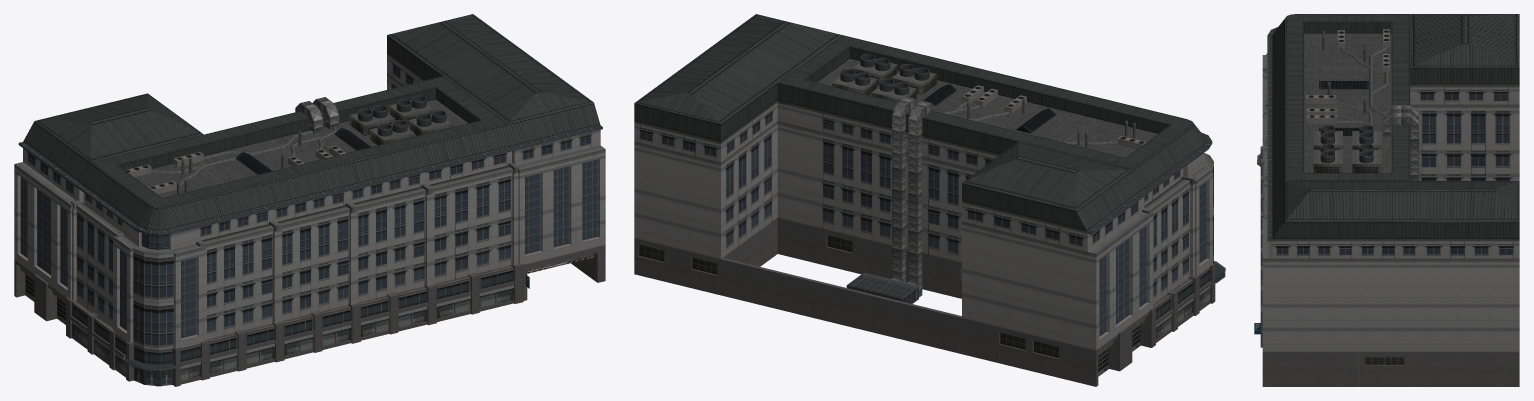
The model's file is building-e-new.glb.
3 views of the same model, side by side, from view 1: azimuth 30°, elevation 25°; view 2: azimuth 150°, elevation 25°; view 3: azimuth 270°, elevation 25° (orthographic). The views are drawn at different scales.
Parts seen in each view (by area): view 1: AIT01W2W4; view 2: AIT01W2W4; view 3: AIT01W2W4.
Part boxes in pixels (x1,y1,x2,y2): AIT01W2W4: (14,14,605,386); AIT01W2W4: (634,14,1225,386); AIT01W2W4: (1254,14,1519,386).
Size of the model in its own units: 2 by 0.7753 by 1.02.
1 material, 1 textured.
